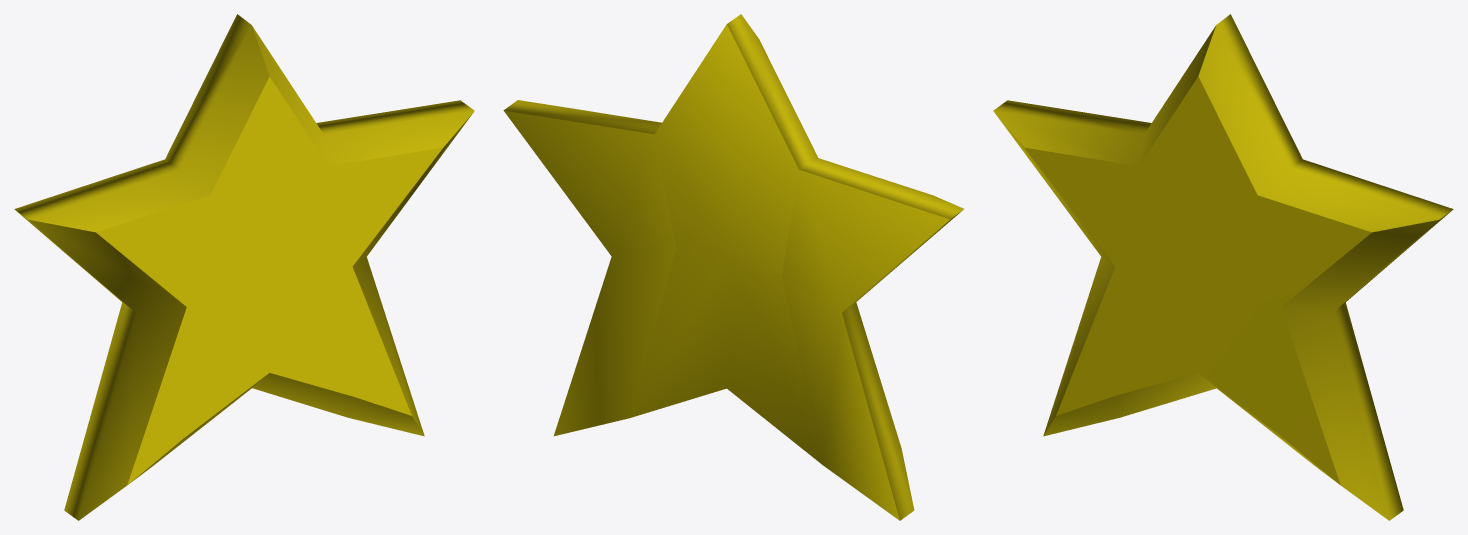
The model's file is Level_Star.obj.
3 renders of one model, left to right at view 1: azimuth 30°, elevation 25°; view 2: azimuth 150°, elevation 25°; view 3: azimuth 330°, elevation 25°, orthographic.
Parts seen in each view (by area): view 1: pCube1; view 2: pCube1; view 3: pCube1.
Boxes of the visible parts, bbox=[...] form: pCube1: bbox=[14, 14, 474, 520]; pCube1: bbox=[503, 14, 963, 520]; pCube1: bbox=[993, 14, 1453, 520].
Size of the model in its own units: 3.91 by 3.8 by 0.5335.
1 material, 1 textured.
